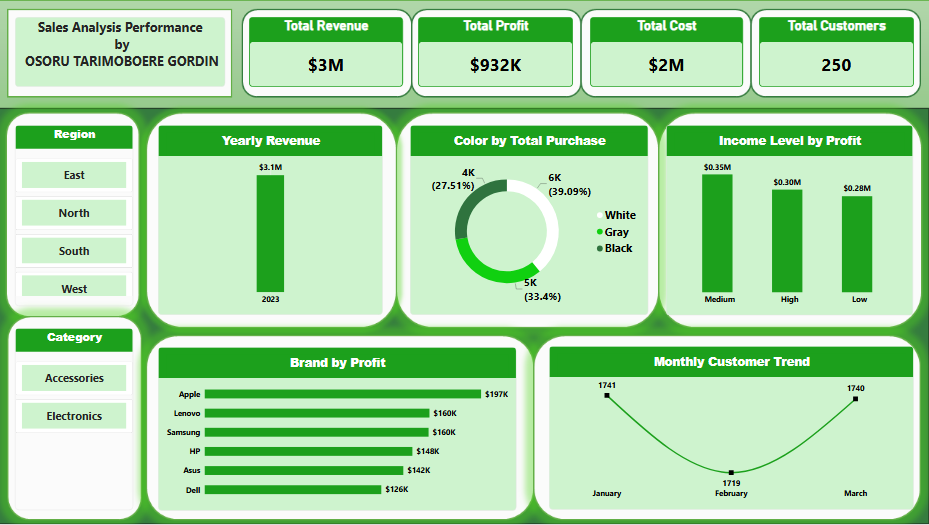

Layout of this report page (visuals, bound fields, positions):
{"tool":"powerbi","page":{"name":"Page 1","canvas":[1920,1080],"ordinal":0},"visuals":[{"type":"cardVisual","title":"Total Revenue","fields":{"Data":["Sales.Total Revenue"]},"box":[516,36,318,144],"z":0},{"type":"cardVisual","title":"Total Profit","fields":{"Data":["Sales.Total Profit"]},"box":[866,36,320,144],"z":1000},{"type":"cardVisual","title":"Total Cost","fields":{"Data":["Sales.Total Cost"]},"box":[1220,36,316,144],"z":2000},{"type":"cardVisual","title":"Total Customers","fields":{"Data":["Customers.Total Customers"]},"box":[1568,36,320,144],"z":3000},{"type":"clusteredBarChart","title":"Brand by Profit","fields":{"Y":["Sales.Total Profit"],"Category":["Products.Brand"]},"box":[328,716,740,338],"z":4000},{"type":"donutChart","title":"Color by Total Purchase","fields":{"Category":["Products.Color"],"Y":["Sum(Sales.Quantity)"]},"box":[848,258,492,392],"z":5000},{"type":"clusteredColumnChart","title":"Yearly Revenue","fields":{"Y":["Sales.Total Revenue"],"Category":["DateTable.Year"]},"box":[328,258,464,392],"z":6000},{"type":"lineChart","title":"Monthly Customer Trend","fields":{"Y":["CountNonNull(Sales.CustomerID)"],"Category":["DateTable.Month"]},"box":[1135,715,752.5,337.5],"z":7000},{"type":"clusteredColumnChart","title":"Income Level by Profit","fields":{"Category":["Customers.IncomeLevel"],"Y":["Sales.Total Profit"]},"box":[1377.5,257.5,510,392.5],"z":8000},{"type":"advancedSlicerVisual","title":"Region","fields":{"Values":["Customers.Region"]},"box":[32,258,244,374],"z":9000},{"type":"advancedSlicerVisual","fields":{"Values":["Products.Category"]},"box":[32,678,244,376],"z":10000},{"type":"textbox","title":"Sales Analysis Performance","box":[32,36,434,144],"z":11000}]}

Visuals, with their boxes in screenshot pixels (x1, y1, x2, y2), scaled from the page's 1920x1080 canvas onto the 929x525 screenshot:
"Total Revenue" cardVisual: bbox=[250, 18, 404, 88]
"Total Profit" cardVisual: bbox=[419, 18, 574, 88]
"Total Cost" cardVisual: bbox=[590, 18, 743, 88]
"Total Customers" cardVisual: bbox=[759, 18, 914, 88]
"Brand by Profit" clusteredBarChart: bbox=[159, 348, 517, 512]
"Color by Total Purchase" donutChart: bbox=[410, 125, 648, 316]
"Yearly Revenue" clusteredColumnChart: bbox=[159, 125, 383, 316]
"Monthly Customer Trend" lineChart: bbox=[549, 348, 913, 512]
"Income Level by Profit" clusteredColumnChart: bbox=[667, 125, 913, 316]
"Region" advancedSlicerVisual: bbox=[15, 125, 134, 307]
advancedSlicerVisual - Products.Category: bbox=[15, 330, 134, 512]
"Sales Analysis Performance" textbox: bbox=[15, 18, 225, 88]
